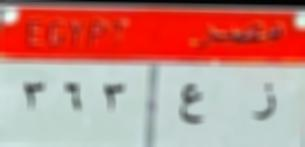3: (96, 77, 132, 114), (20, 78, 48, 115)
6: (59, 80, 86, 117)
ain: (172, 81, 214, 128)
zay: (247, 77, 284, 127)
